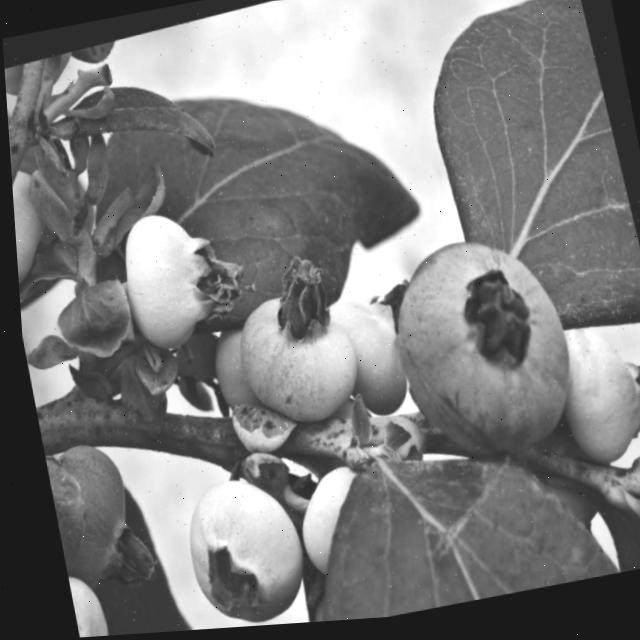RipeBlueBerry: (355, 207, 605, 494)
UnripeBlueBerry: (160, 455, 324, 633)
